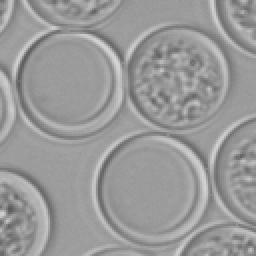picoshell: (90, 132, 210, 246), (12, 26, 124, 142), (124, 22, 230, 132), (208, 117, 256, 227), (0, 168, 52, 256), (20, 0, 122, 28), (208, 0, 256, 57), (176, 222, 256, 256), (0, 70, 14, 140), (85, 244, 154, 256)
